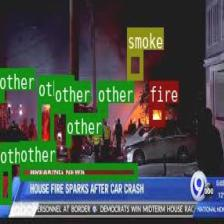fire: (149, 103, 164, 125)
smoke: (127, 49, 142, 79)
